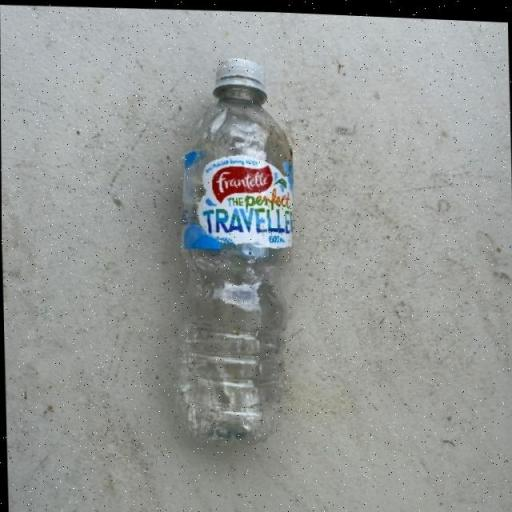plastic: (167, 50, 300, 448)
